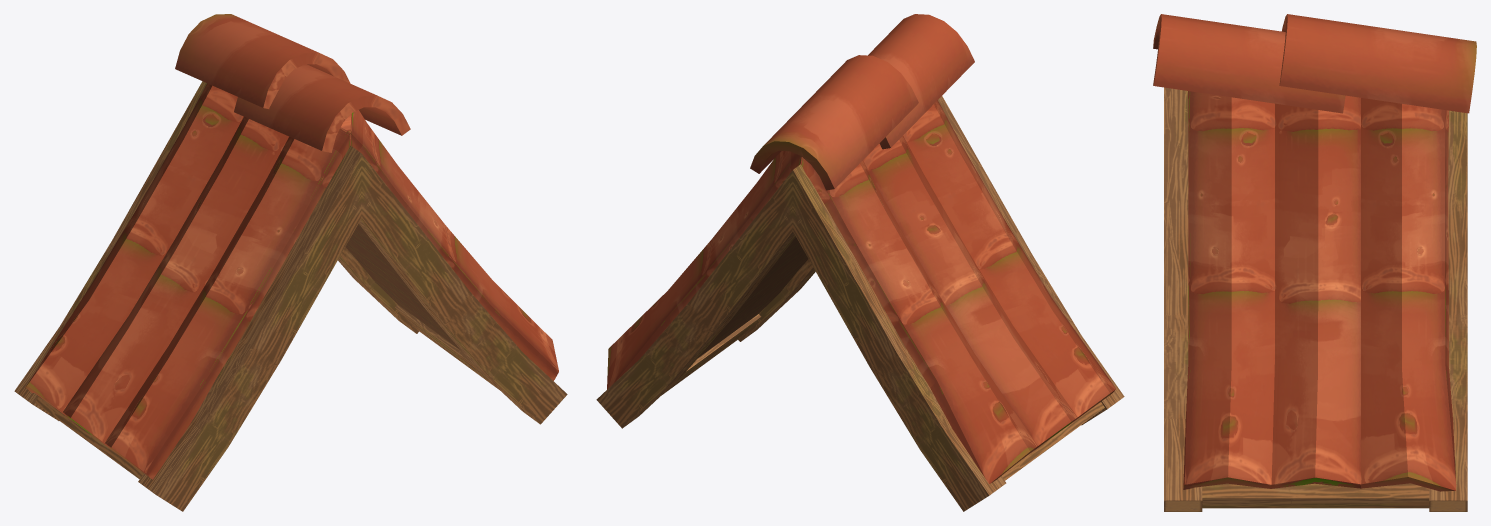
Rendered from roof_round_tile_2x1.glb.
3 renders of one model, left to right at view 1: azimuth 30°, elevation 25°; view 2: azimuth 150°, elevation 25°; view 3: azimuth 270°, elevation 25°, orthographic. The views are drawn at different scales.
Visible parts, largest first — view 1: Roof_RoundTile_2x1; view 2: Roof_RoundTile_2x1; view 3: Roof_RoundTile_2x1.
Part boxes in pixels (box(x1,y1,x2,y2)): Roof_RoundTile_2x1: box(14, 14, 567, 511); Roof_RoundTile_2x1: box(596, 14, 1124, 511); Roof_RoundTile_2x1: box(1153, 14, 1476, 511).
Size of the model in its own units: 3.3 by 2.66 by 1.95.
Materials: 2 (2 with a texture image).
